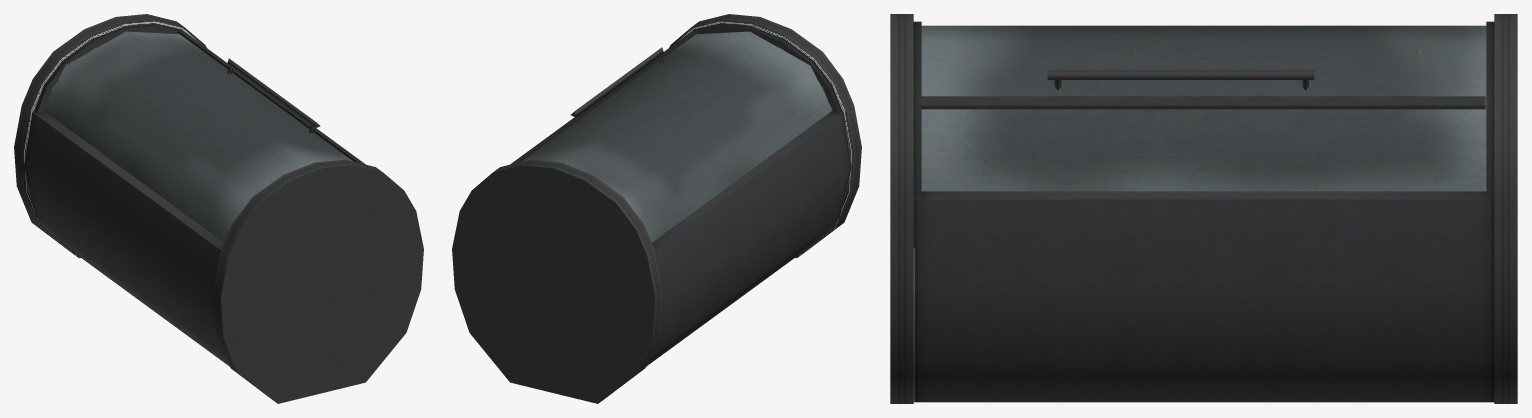
The model's file is nt_2020_fridge_LOD1.obj.
3 renders of one model, left to right at view 1: azimuth 30°, elevation 25°; view 2: azimuth 150°, elevation 25°; view 3: azimuth 270°, elevation 25°, orthographic. The views are drawn at different scales.
Visible parts, largest first — view 1: mtl_nt_2020_fridge_body, mtl_nt_2020_fridge_glass; view 2: mtl_nt_2020_fridge_body, mtl_nt_2020_fridge_glass; view 3: mtl_nt_2020_fridge_body, mtl_nt_2020_fridge_glass.
Boxes of the visible parts, left/top/right/bottom form: mtl_nt_2020_fridge_body: left=14, top=14, right=423, bottom=403; mtl_nt_2020_fridge_glass: left=43, top=31, right=353, bottom=242; mtl_nt_2020_fridge_body: left=452, top=14, right=861, bottom=403; mtl_nt_2020_fridge_glass: left=522, top=31, right=832, bottom=242; mtl_nt_2020_fridge_body: left=890, top=14, right=1517, bottom=403; mtl_nt_2020_fridge_glass: left=921, top=25, right=1486, bottom=191.
Size of the model in its own units: 115 by 122 by 203.
